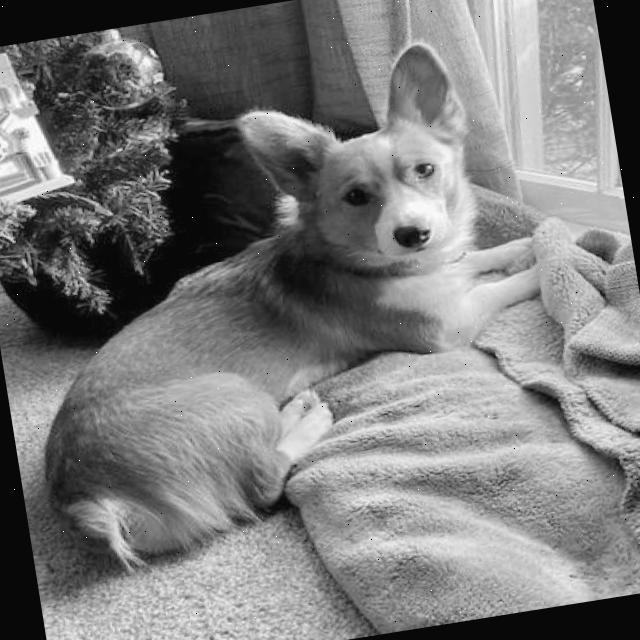corgi_dog: (225, 29, 506, 296)
